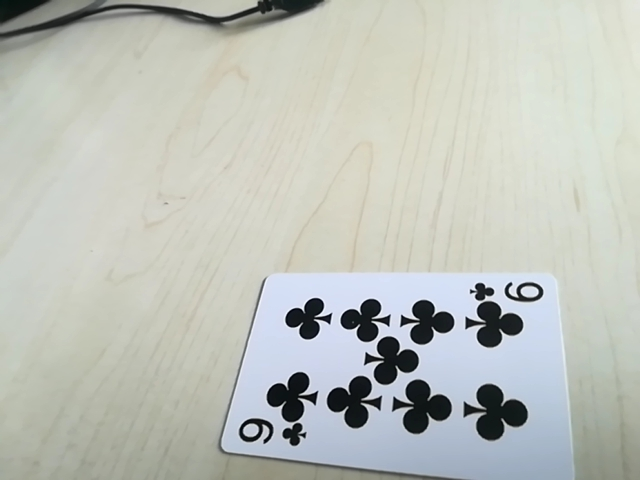mh 9: (230, 421, 309, 454), (471, 277, 550, 308)
